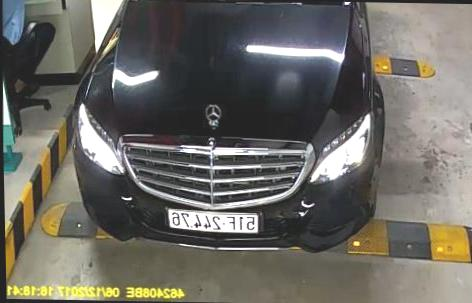License_Plate: (163, 199, 265, 240)
